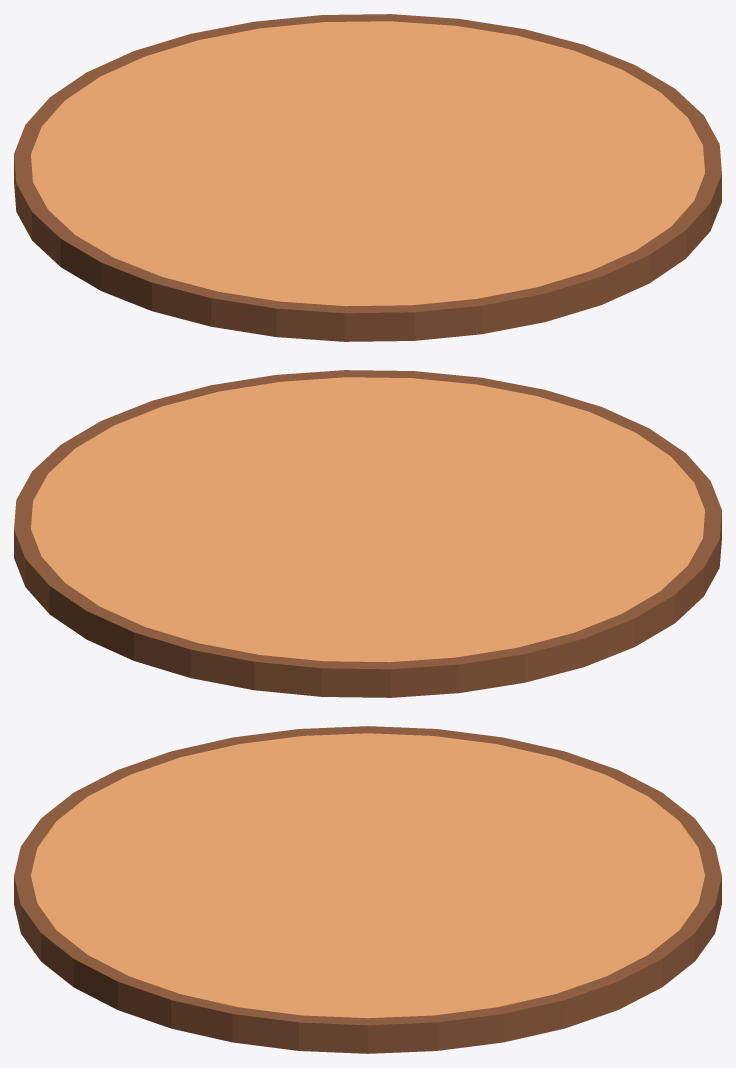
The model's file is Bologna.fbx.
The picture shows the model from 3 angles, top to bottom: view 1: azimuth 30°, elevation 25°; view 2: azimuth 150°, elevation 25°; view 3: azimuth 270°, elevation 25°; orthographic projection.
Visible parts, largest first — view 1: Bologna Inside, Bologna Outside; view 2: Bologna Inside, Bologna Outside; view 3: Bologna Inside, Bologna Outside.
Part boxes in pixels (x1,y1,x2,y2): Bologna Inside: (31,21,704,306); Bologna Outside: (14,14,721,341); Bologna Inside: (31,377,704,662); Bologna Outside: (14,370,721,697); Bologna Inside: (31,733,704,1018); Bologna Outside: (14,726,721,1053).
Bounding box in the file's own units: 210 × 9.33 × 210.
